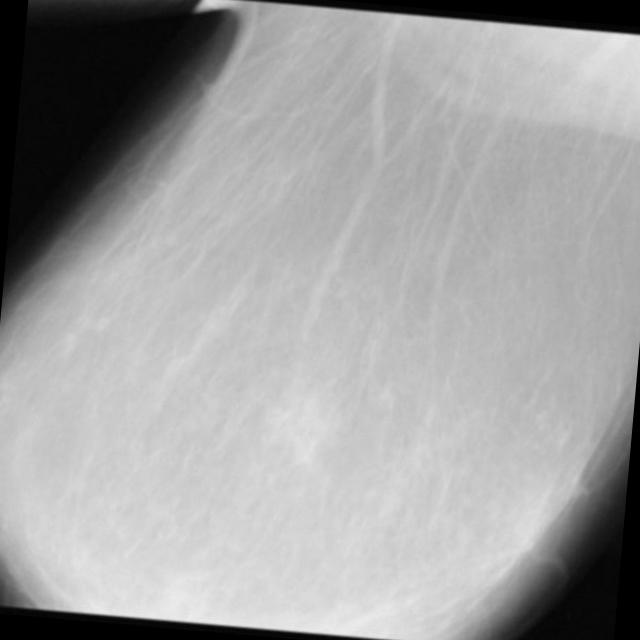ARCH: (262, 388, 328, 452)
